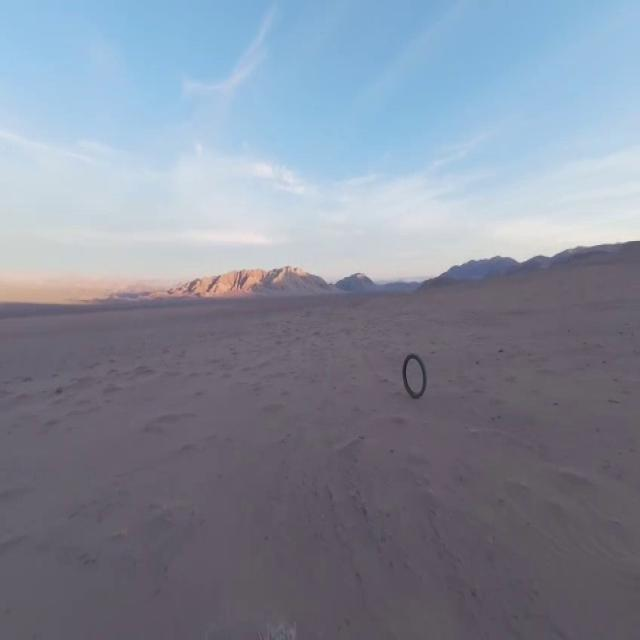Tire: (402, 353, 426, 398)
